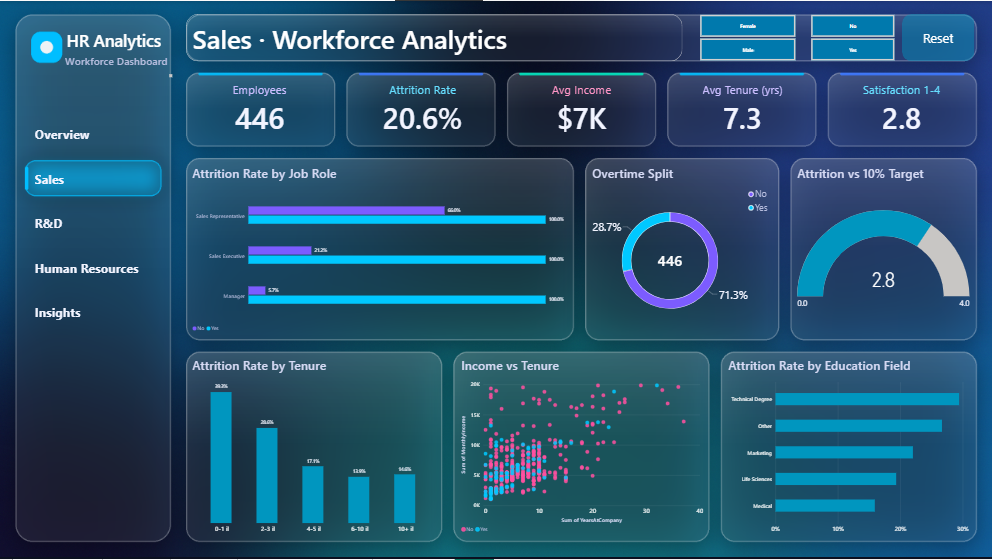

Layout of this report page (visuals, bound fields, positions):
{"tool":"powerbi","page":{"name":"Sales","canvas":[2560,1440],"ordinal":1},"visuals":[{"type":"actionButton","box":[70,420,353,76],"z":0},{"type":"actionButton","box":[70,303.3,353.3,76.7],"z":1000},{"type":"actionButton","box":[70,765,353,76],"z":2000},{"type":"actionButton","box":[70,650,353,76],"z":3000},{"type":"actionButton","box":[70,535,353,76],"z":4000},{"type":"textbox","title":"HR Analytics","box":[165,73.3,256.7,55],"z":5000},{"type":"textbox","title":"Workforce Dashboard","box":[166.7,136.7,276.7,60],"z":6000},{"type":"cardVisual","fields":{"Data":["HR.Page Title"]},"box":[479.1,34,1281.3,122],"z":7000},{"type":"slicer","fields":{"Values":["HR.Gender"]},"box":[1785.8,34,286.3,122],"z":8000},{"type":"slicer","fields":{"Values":["HR.OverTime"]},"box":[2072.1,34,255.1,122],"z":9000},{"type":"actionButton","box":[2327.2,34,187.1,122],"z":10000},{"type":"cardVisual","fields":{"Data":["HR.Total Employees"]},"box":[480,185,380,186.7],"z":11000},{"type":"cardVisual","fields":{"Data":["HR.Attrition Rate"]},"box":[900,186.7,380,186.7],"z":12000},{"type":"cardVisual","fields":{"Data":["HR.Avg Monthly Income"]},"box":[1310,186.7,380,186.7],"z":13000},{"type":"cardVisual","fields":{"Data":["HR.Avg Tenure"]},"box":[1726.7,186.7,380,186.7],"z":14000},{"type":"cardVisual","fields":{"Data":["HR.Avg Job Satisfaction"]},"box":[2136.7,186.7,380,186.7],"z":15000},{"type":"donutChart","title":"Overtime Split","fields":{"Category":["HR.OverTime"],"Y":["HR.Total Employees"]},"box":[1513.3,406.7,493.3,466.7],"z":16000},{"type":"gauge","title":"Attrition vs 10% Target","fields":{"Y":["HR.Avg Job Satisfaction"]},"box":[2040,406.7,476.7,466.7],"z":17000},{"type":"clusteredColumnChart","title":"Attrition Rate by Tenure","fields":{"Category":["HR.TenureBand"],"Y":["HR.Attrition Rate"]},"box":[480,903.3,660,490],"z":18000},{"type":"scatterChart","title":"Income vs Tenure","fields":{"Category":["HR.EmployeeNumber"],"Series":["HR.Attrition"],"X":["Sum(HR.YearsAtCompany)"],"Y":["Sum(HR.MonthlyIncome)"]},"box":[1173.3,903.3,656.7,490],"z":19000},{"type":"clusteredBarChart","title":"Attrition Rate by Education Field","fields":{"Category":["HR.EducationField"],"Y":["HR.Attrition Rate"]},"box":[1863.3,903.3,653.3,490],"z":20000},{"type":"clusteredBarChart","title":"Attrition Rate by Job Role","fields":{"Category":["HR.JobRole"],"Series":["HR.Attrition"],"Y":["HR.Attrition Rate"]},"box":[481.2,406.7,991.1,467],"z":21000}]}

Visuals, with their boxes in screenshot pixels (x1, y1, x2, y2), scaled from the page's 2560x1440 canvas onto the 992x560 screenshot:
actionButton: rect(27, 163, 164, 193)
actionButton: rect(27, 118, 164, 148)
actionButton: rect(27, 298, 164, 327)
actionButton: rect(27, 253, 164, 282)
actionButton: rect(27, 208, 164, 238)
"HR Analytics" textbox: rect(64, 29, 163, 50)
"Workforce Dashboard" textbox: rect(65, 53, 172, 76)
cardVisual - HR.Page Title: rect(186, 13, 682, 61)
slicer - HR.Gender: rect(692, 13, 803, 61)
slicer - HR.OverTime: rect(803, 13, 902, 61)
actionButton: rect(902, 13, 974, 61)
cardVisual - HR.Total Employees: rect(186, 72, 333, 145)
cardVisual - HR.Attrition Rate: rect(349, 73, 496, 145)
cardVisual - HR.Avg Monthly Income: rect(508, 73, 655, 145)
cardVisual - HR.Avg Tenure: rect(669, 73, 816, 145)
cardVisual - HR.Avg Job Satisfaction: rect(828, 73, 975, 145)
"Overtime Split" donutChart: rect(586, 158, 778, 340)
"Attrition vs 10% Target" gauge: rect(790, 158, 975, 340)
"Attrition Rate by Tenure" clusteredColumnChart: rect(186, 351, 442, 542)
"Income vs Tenure" scatterChart: rect(455, 351, 709, 542)
"Attrition Rate by Education Field" clusteredBarChart: rect(722, 351, 975, 542)
"Attrition Rate by Job Role" clusteredBarChart: rect(186, 158, 571, 340)
